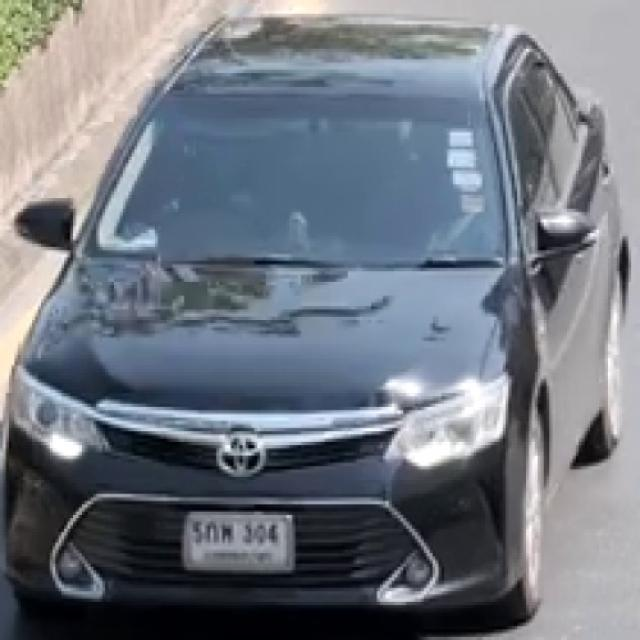plate: (186, 510, 291, 570)
